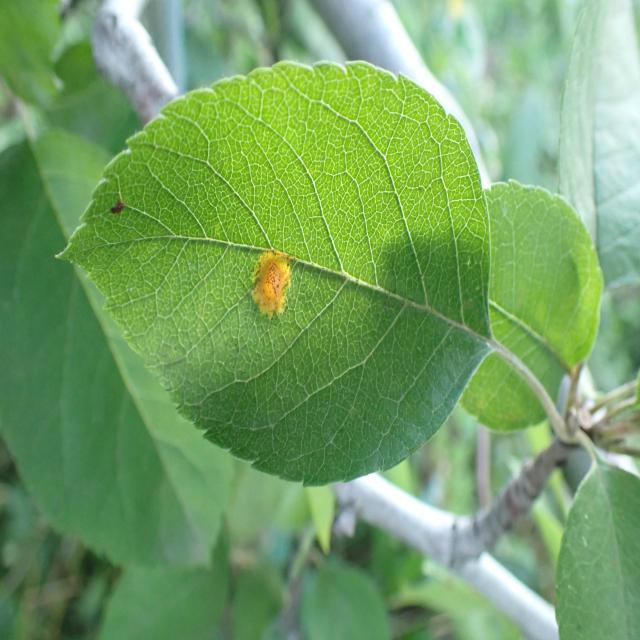Rust: (239, 230, 305, 329)
